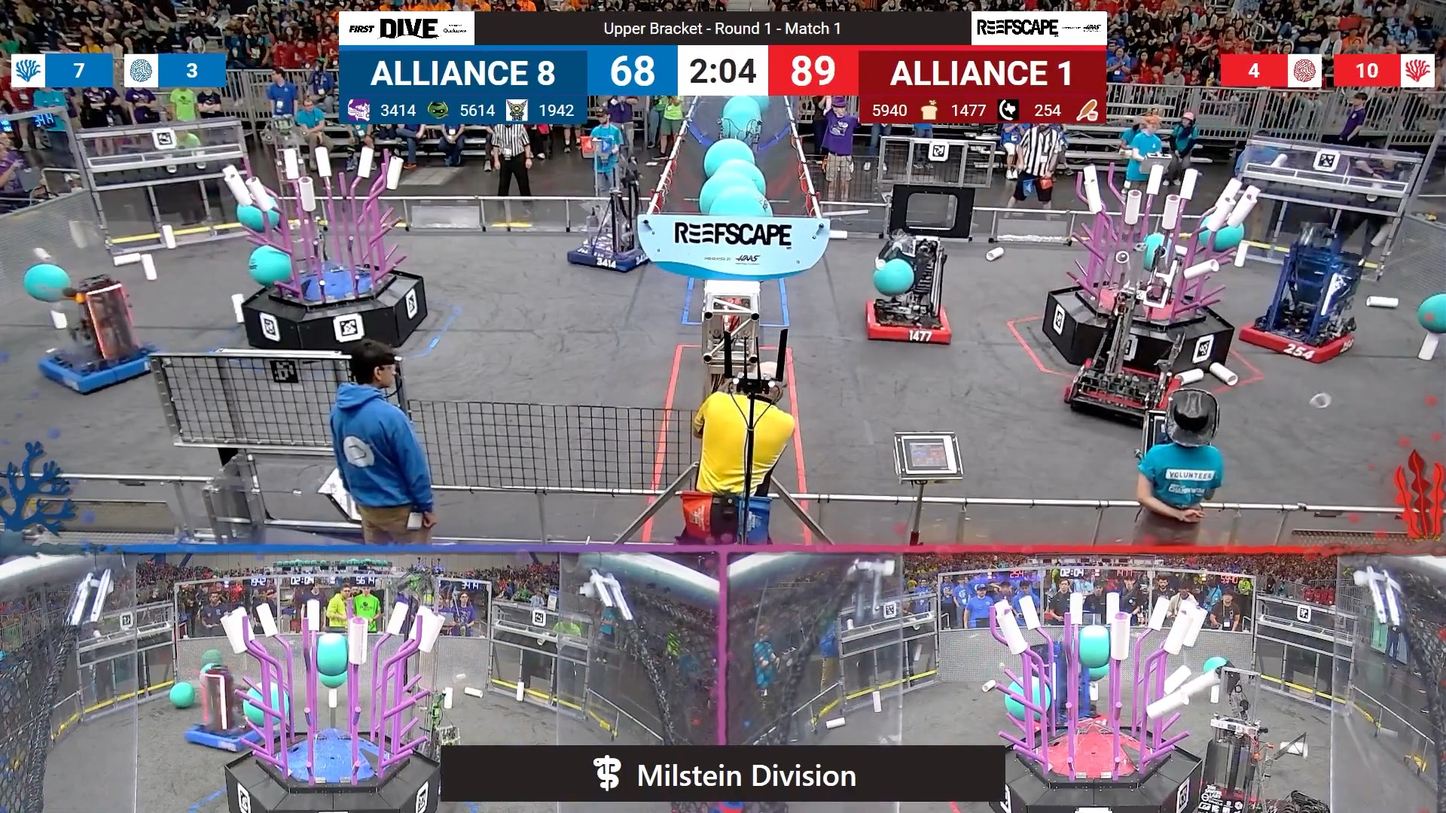bumpers: (1058, 361, 1181, 422), (37, 341, 172, 394), (1236, 314, 1362, 369), (856, 294, 961, 352), (177, 712, 280, 755), (563, 233, 662, 275), (1177, 776, 1279, 813)
